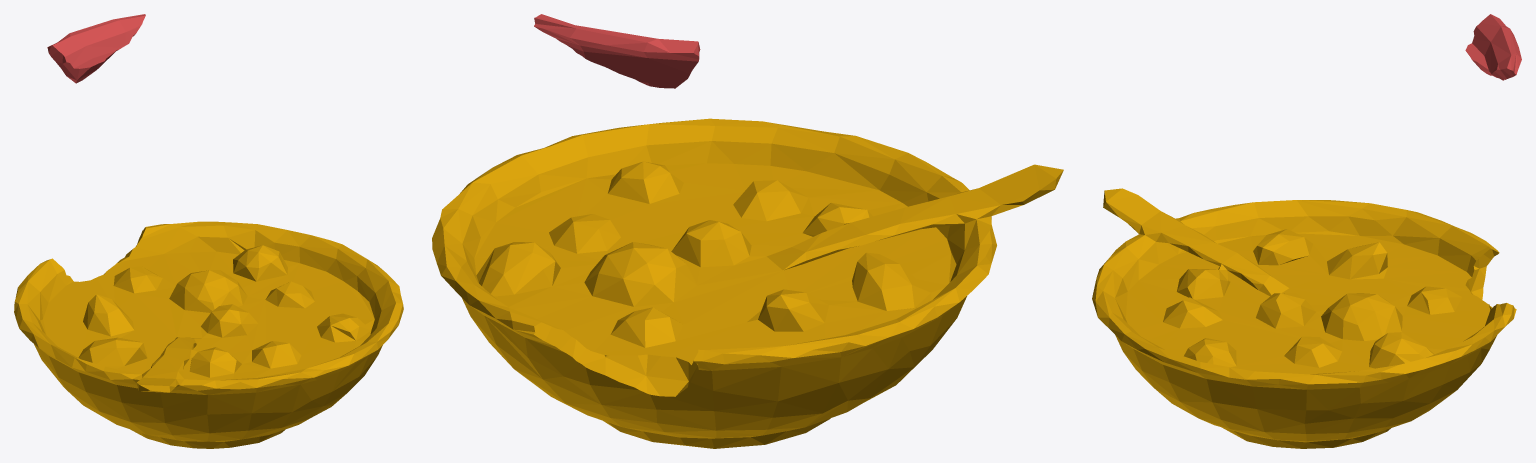
File: fractured_19_2pcs_transformed.glb
3 renders of one model, left to right at view 1: azimuth 30°, elevation 25°; view 2: azimuth 150°, elevation 25°; view 3: azimuth 270°, elevation 25°, orthographic. The views are drawn at different scales.
Parts seen in each view (by area): view 1: piece_0.obj, piece_1.obj; view 2: piece_0.obj, piece_1.obj; view 3: piece_0.obj, piece_1.obj.
Boxes of the visible parts, box(x1,y1,x2,y2) form: piece_0.obj: box(14, 221, 403, 448); piece_1.obj: box(47, 14, 145, 83); piece_0.obj: box(432, 118, 1063, 448); piece_1.obj: box(534, 14, 700, 88); piece_0.obj: box(1092, 188, 1516, 448); piece_1.obj: box(1465, 14, 1521, 80).
Size of the model in its own units: 1 by 0.9075 by 0.9972.
